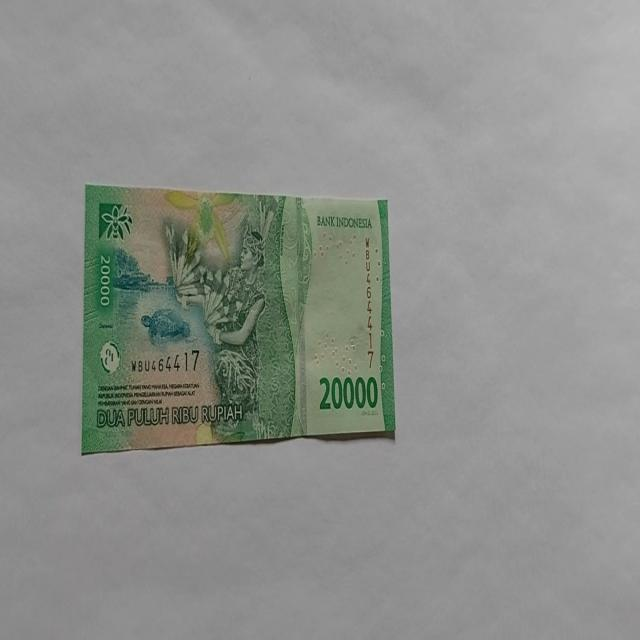dua puluh ribu rupiah: (81, 183, 397, 455)
